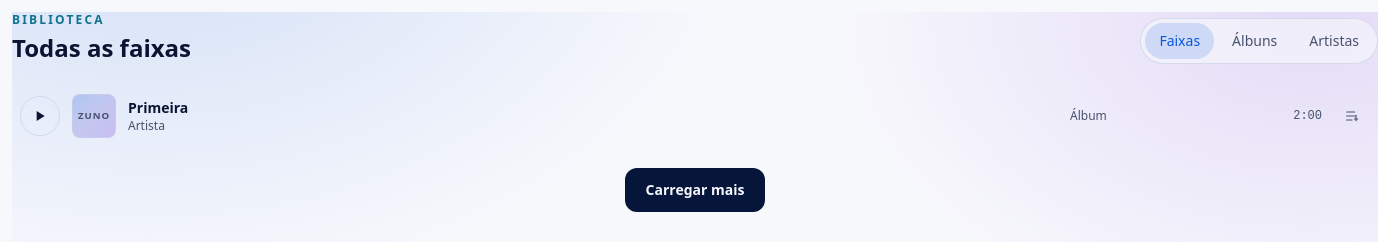
Test case: LibraryView › carrega mais páginas com next_cursor
Expected: the text "Primeira" is shown, [128, 98, 188, 117]
Click the button "Carregar mais": (695, 190) [625, 168, 765, 212]
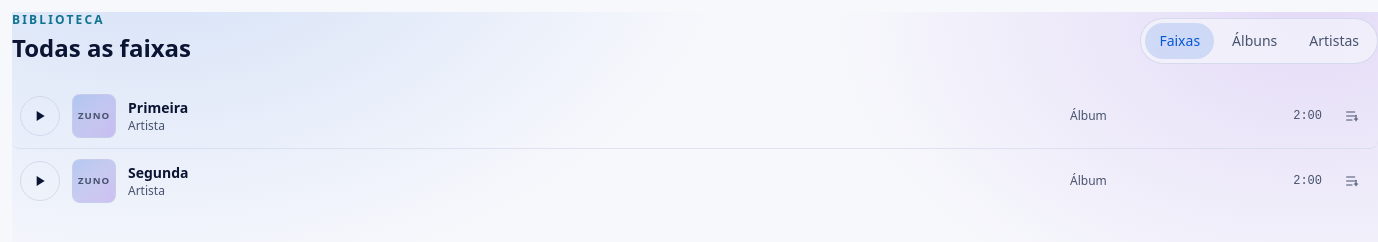
Now the text "Segunda" is shown, box [128, 163, 189, 182]
Now the button "Carregar mais" is gone
